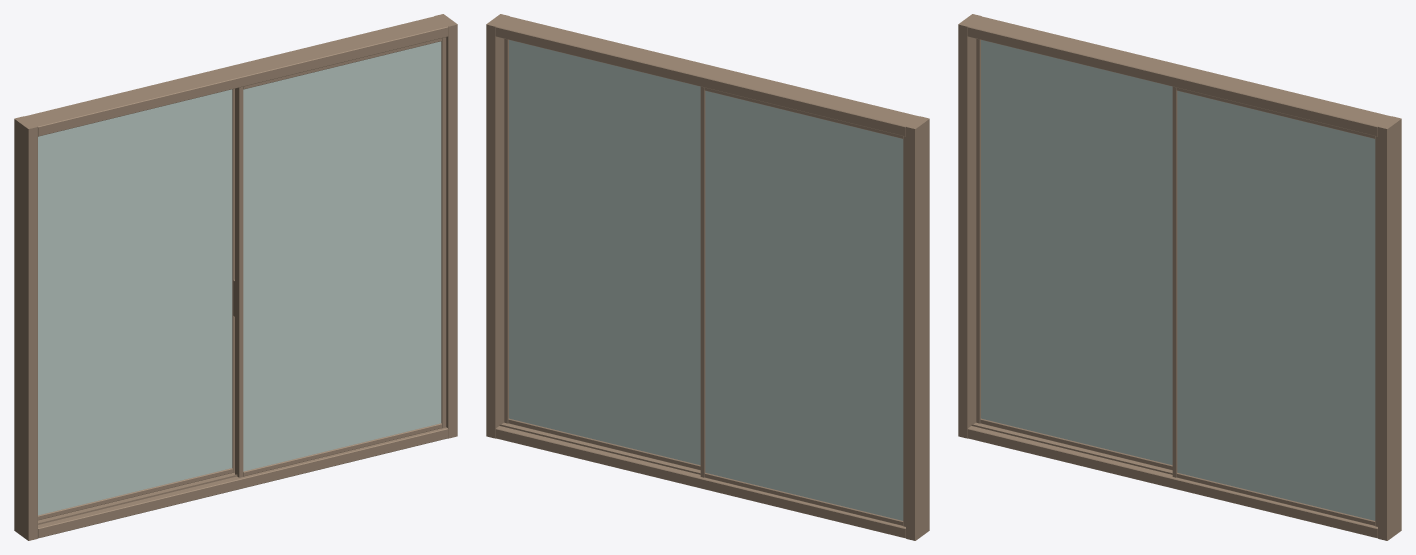
File: co-S140RP-2-quartz-1019.glb
3 views of the same model, side by side, from view 1: azimuth 30°, elevation 25°; view 2: azimuth 150°, elevation 25°; view 3: azimuth 330°, elevation 25° (orthographic).
Visible parts, largest first — view 1: verre, structure; view 2: verre, structure; view 3: verre, structure.
Boxes of the visible parts, box(x1,y1,x2,y2) form: verre: box(38, 41, 441, 515); structure: box(14, 14, 457, 540); verre: box(509, 40, 903, 520); structure: box(486, 14, 929, 540); verre: box(981, 40, 1375, 520); structure: box(958, 14, 1401, 540).
Size of the model in its own units: 2.4 by 2.2 by 0.14.
